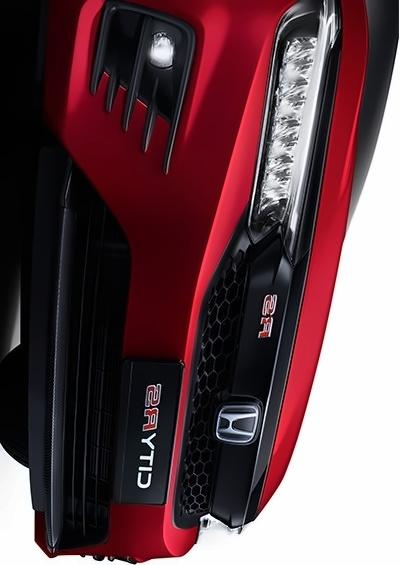Car hood: (252, 0, 370, 524)
Front bumper: (18, 0, 276, 565)
Headlight - -R-: (236, 0, 349, 269)
